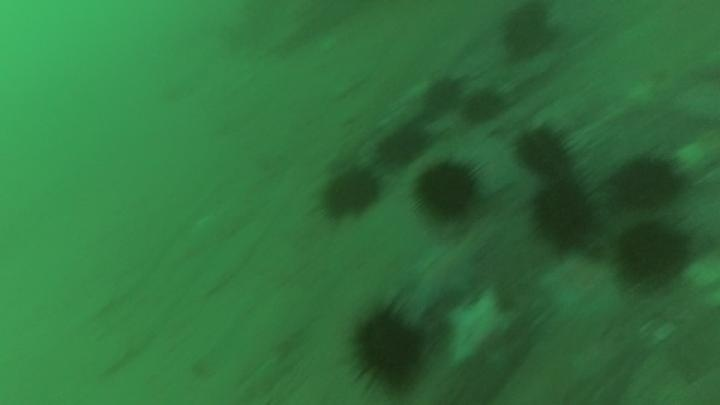echinus: (348, 300, 430, 393), (614, 220, 692, 287), (531, 179, 597, 248), (413, 158, 482, 223), (611, 154, 684, 212), (318, 164, 383, 222), (514, 124, 576, 179), (499, 3, 556, 62), (376, 124, 429, 168), (461, 87, 507, 126), (421, 74, 465, 114)
starfish: (396, 236, 484, 316), (536, 251, 626, 328), (442, 287, 519, 370)
